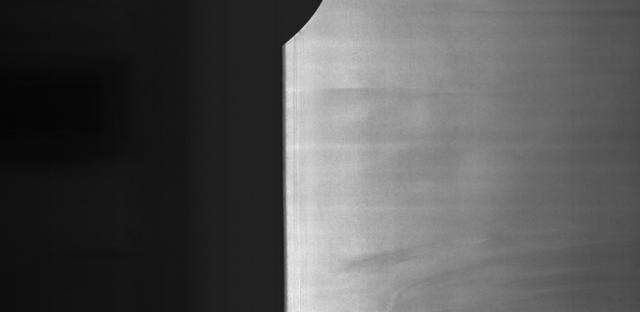crescent_gap: (271, 0, 330, 47)
